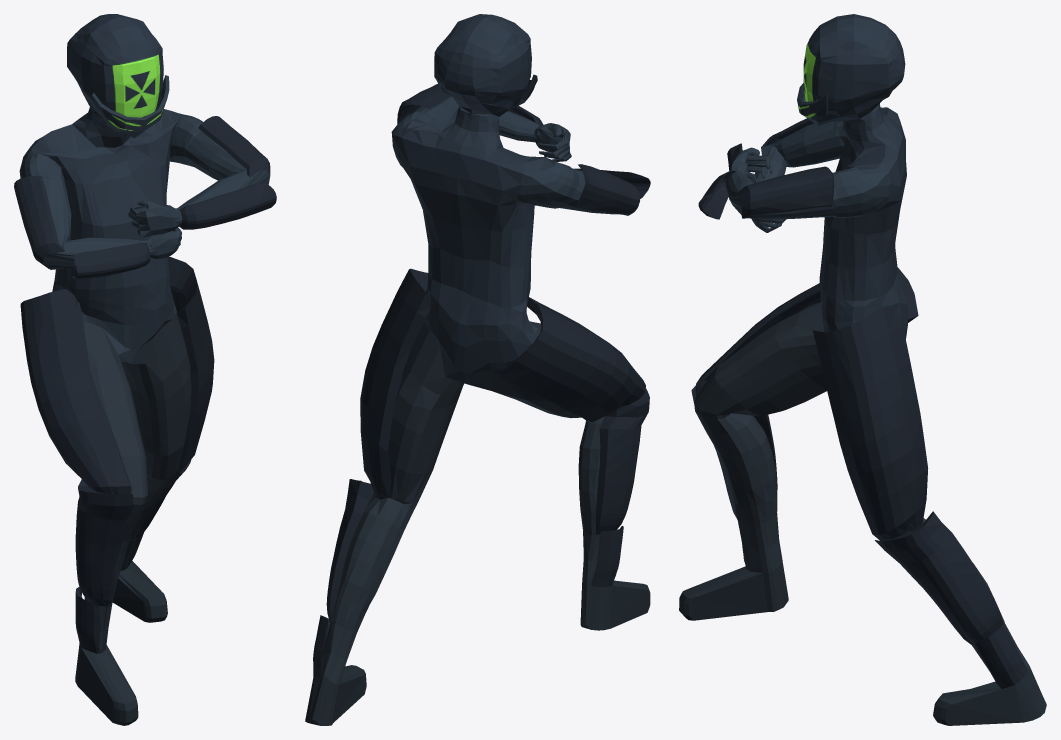
File: Bastion_WB_000005.obj
3 views of the same model, side by side, from view 1: azimuth 30°, elevation 25°; view 2: azimuth 150°, elevation 25°; view 3: azimuth 270°, elevation 25° (orthographic).
Visible parts, largest first — view 1: Cube.002; view 2: Cube.002; view 3: Cube.002.
Part boxes in pixels (x1=…): Cube.002: x1=14, y1=14, x2=276, y2=725; Cube.002: x1=305, y1=14, x2=650, y2=725; Cube.002: x1=679, y1=14, x2=1046, y2=725.
Bounding box in the file's own units: 1.32 × 3.65 × 1.84.
